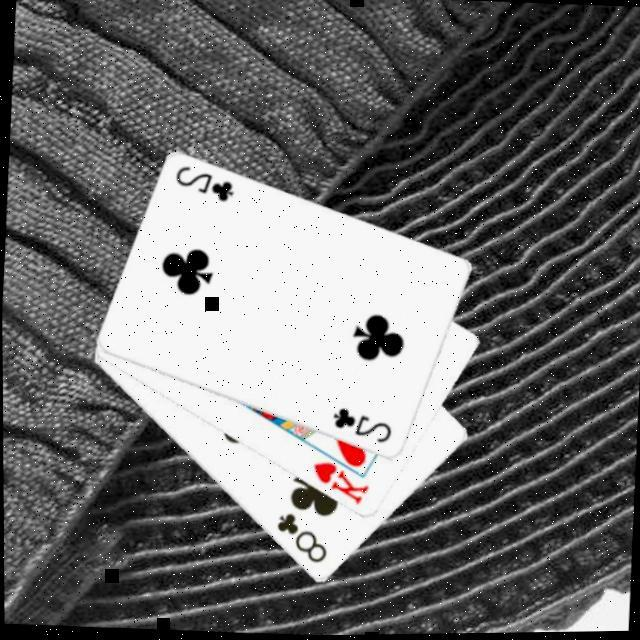2C: (330, 404, 398, 448), (173, 163, 241, 207)
8C: (271, 509, 333, 569)
KH: (309, 458, 374, 510)
